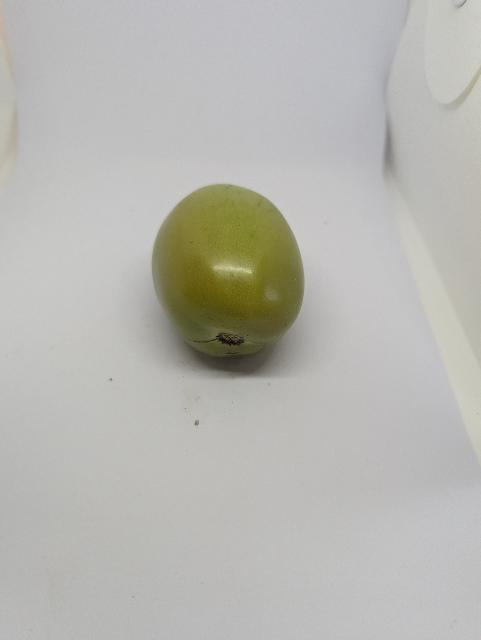green: (140, 169, 327, 384)
